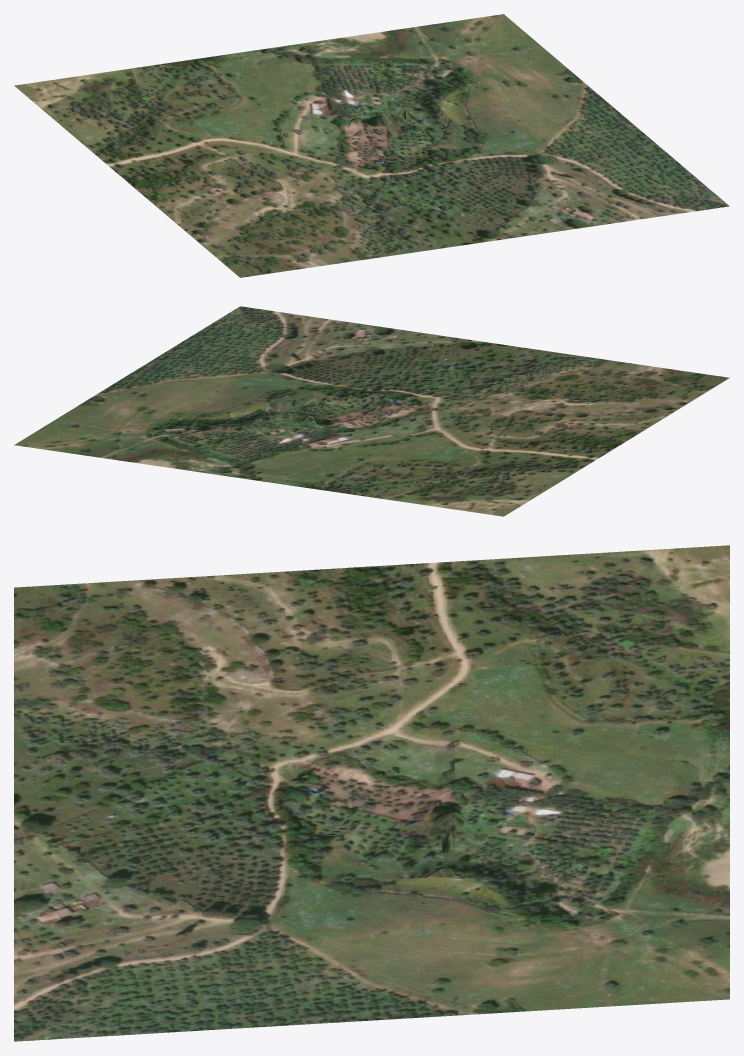
File: CINCIN_arazi_uydu_D5_GENIS.obj
3 views of the same model, one above another, from view 1: azimuth 30°, elevation 25°; view 2: azimuth 150°, elevation 25°; view 3: azimuth 270°, elevation 25° (orthographic). The views are drawn at different scales.
Bounding box in the file's own units: 455 × 66.29 × 364.
